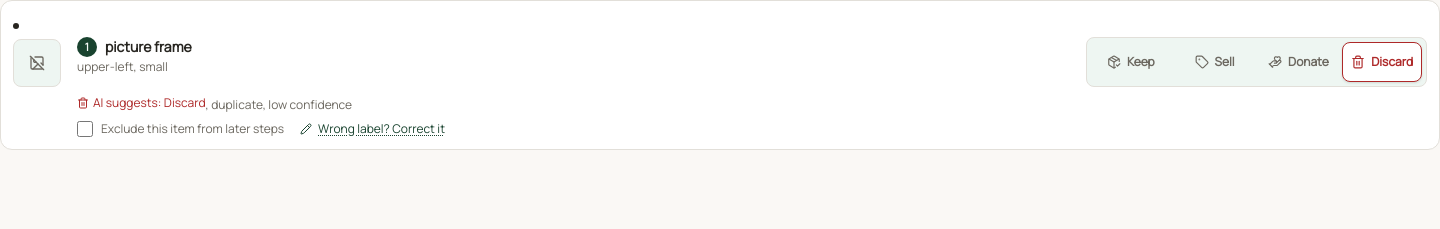
DeclutterItemCard › label correction control › a blank label cannot be submitted
Click the button "Wrong label? Correct it": (372, 129) [300, 121, 445, 137]
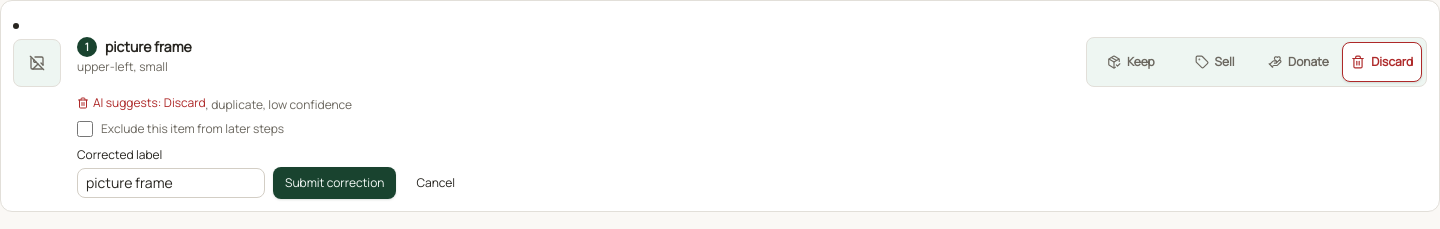
Clear the field labelled "Corrected label": (171, 183) [77, 168, 265, 198]
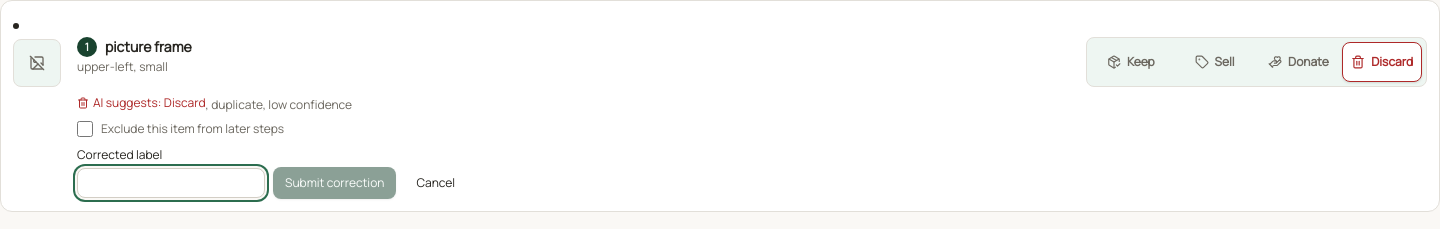
Result: the button "Submit correction" is disabled at [273, 167, 396, 199]
